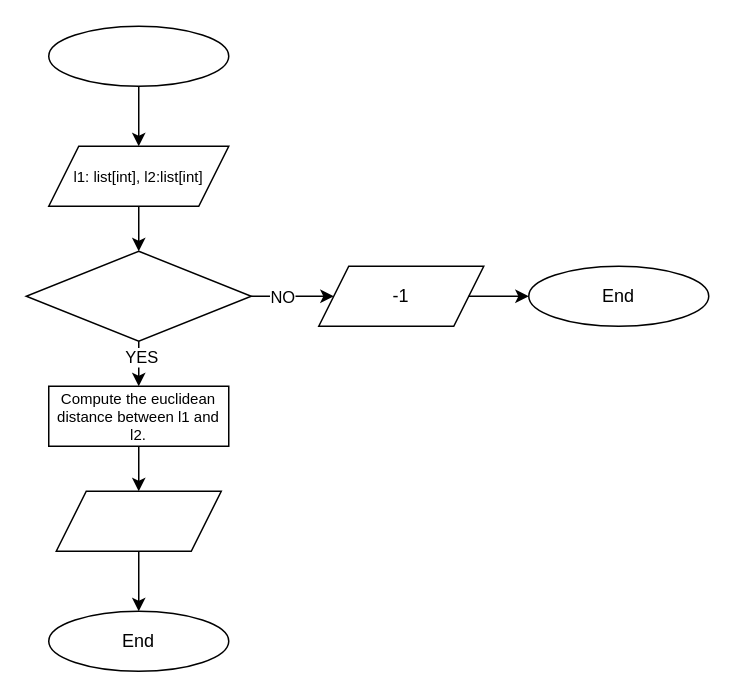
Image size: 735x698. Some labels were removed from this diagram. Each missing label, with the box of its shape:
Check if the lists have equal length and are not empty: (25, 250, 251, 341)
res: (55, 490, 221, 551)
Start: (47, 25, 229, 86)
